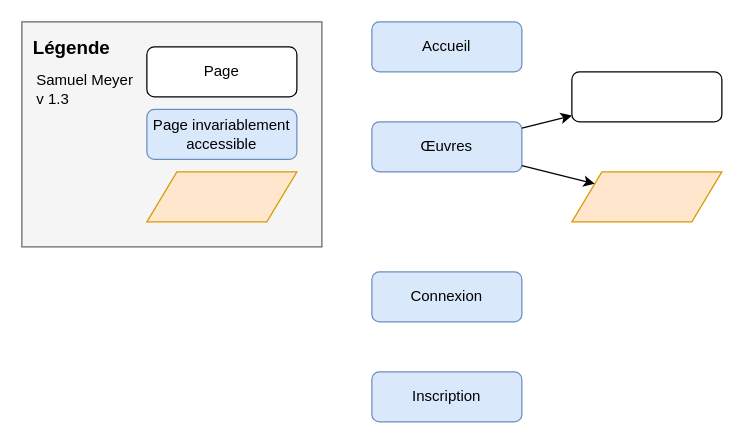
Some shapes in this 744 by 444 pixel diagram are drawn without their labels. Each missing label, with the centre of its shape:
Article "N": the point at 646,96
Fonctionnalité: the point at 221,196
Rechercher: the point at 646,196
